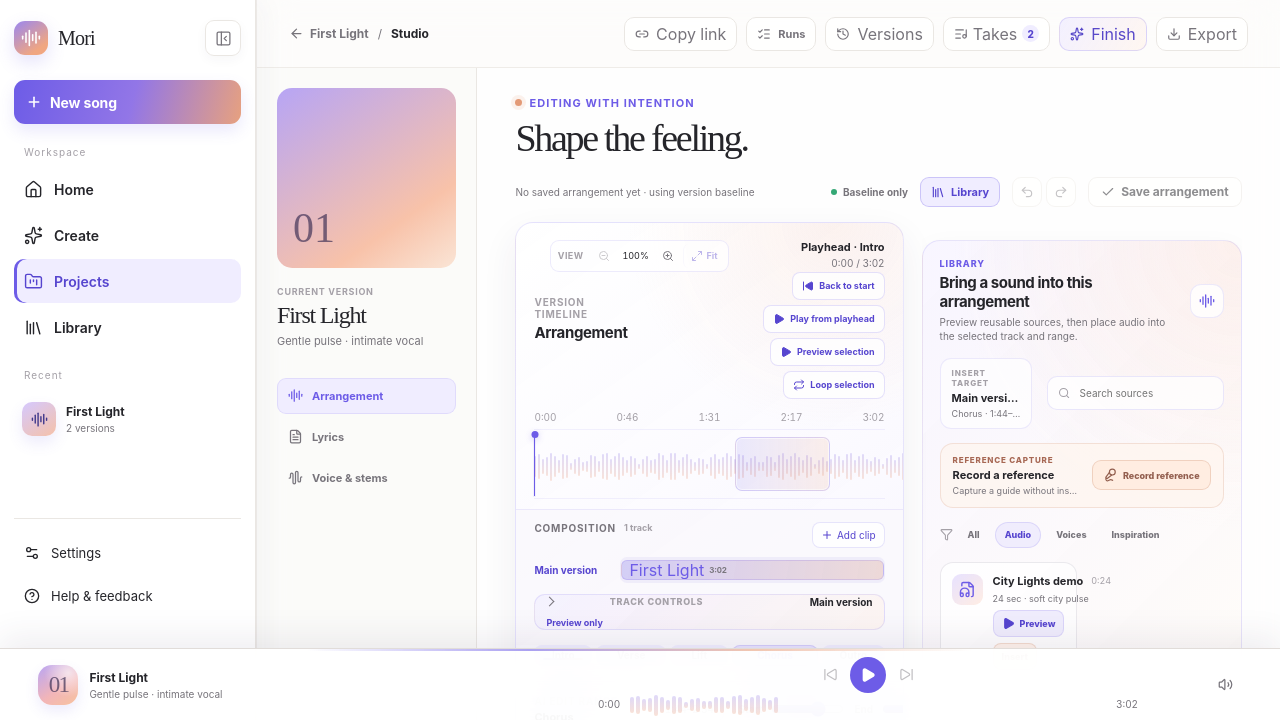
Test case: Mori studio page › previews a selected arrangement clip through the global player
Click the button with aria-label "Main version clip First Light · 3:02": (667, 570) [621,560,884,580]
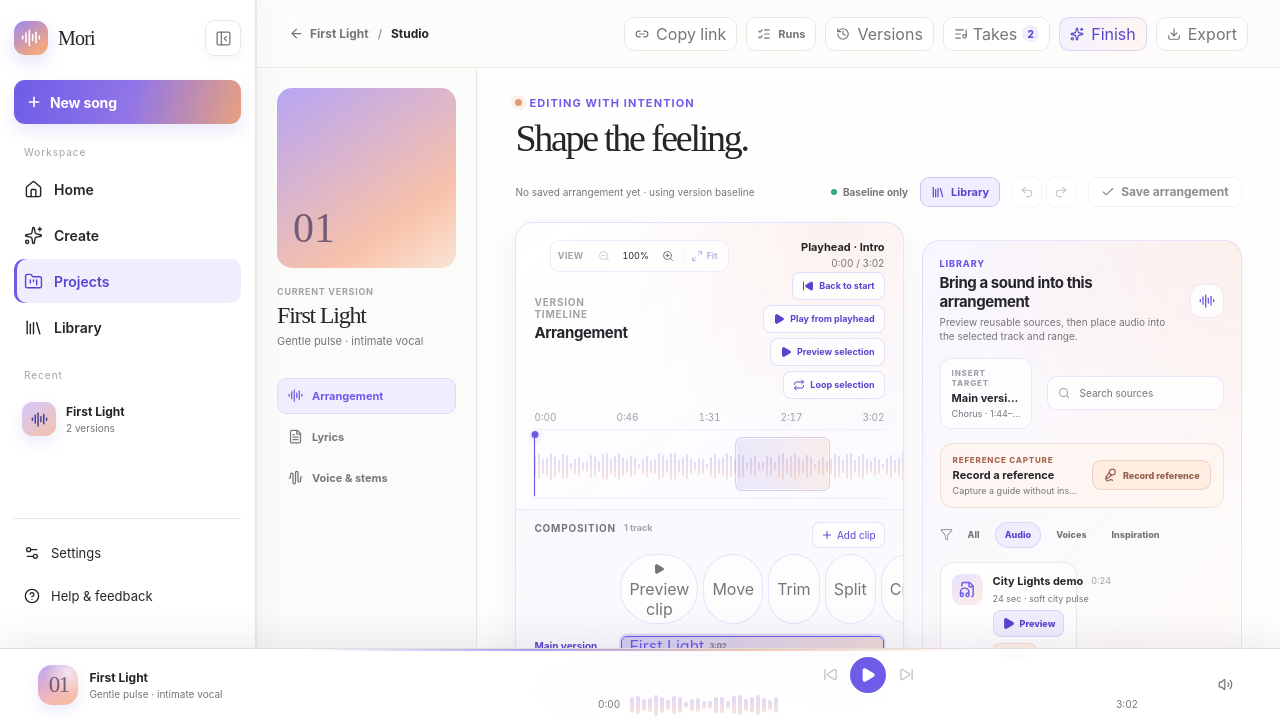
Click the button with aria-label "Preview selected clip": (659, 588) [620,554,698,624]
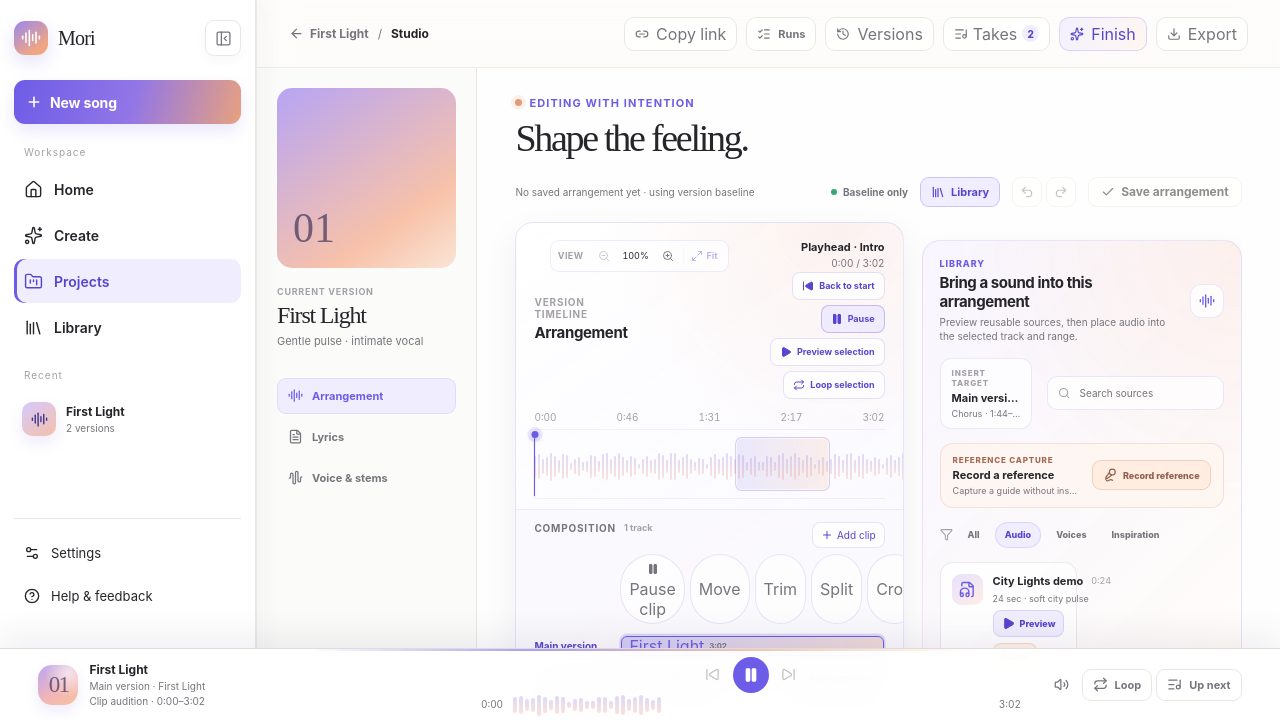
Expected: the element named "Global player" shows "Clip audition · 0:00–3:02", [0,648,1279,719]
